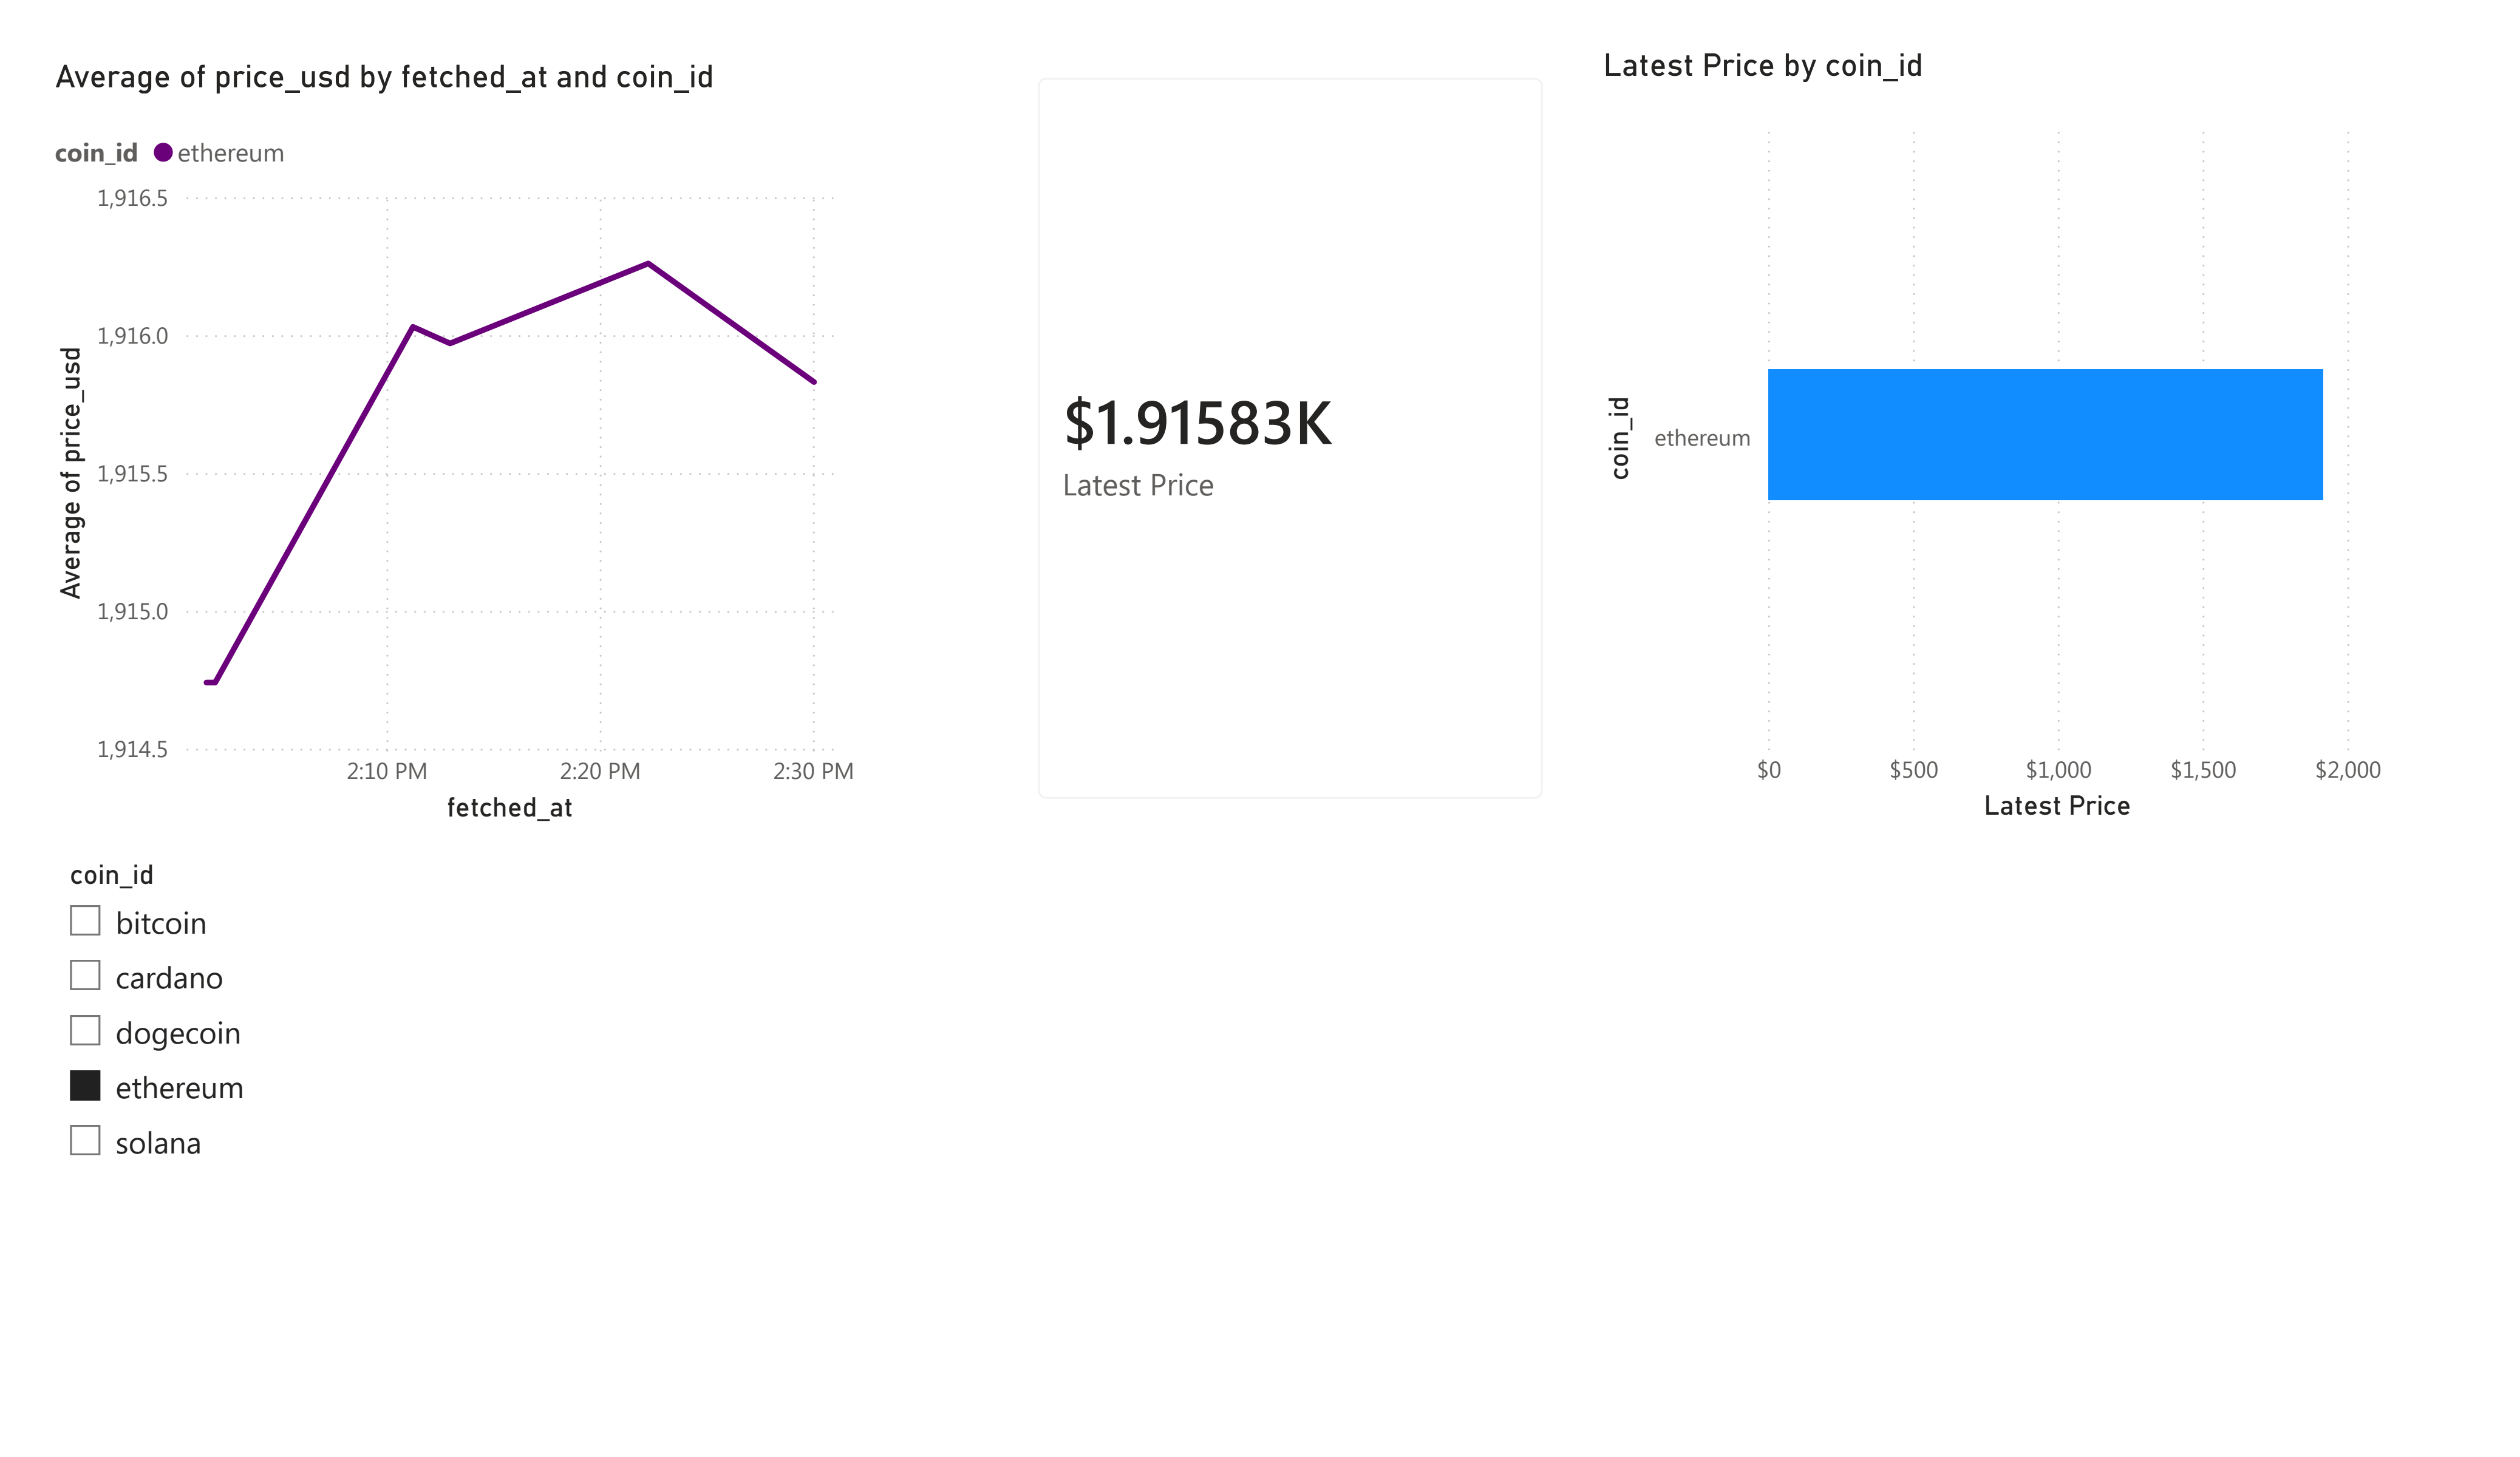

What the dashboard file says about the page in this screenshot:
{"tool":"powerbi","page":{"name":"Page 1","canvas":[1280,720],"ordinal":0},"visuals":[{"type":"lineChart","fields":{"Series":["public crypto_prices.coin_id"],"Category":["public crypto_prices.fetched_at"],"Y":["Avg(public crypto_prices.price_usd)"]},"box":[0,6,432,408],"z":0},{"type":"cardVisual","fields":{"Data":["public crypto_prices.Latest Price"]},"box":[505.6,0,300,414],"z":1},{"type":"clusteredBarChart","fields":{"Category":["public crypto_prices.coin_id"],"Y":["public crypto_prices.Latest Price"]},"box":[815.6,0,420,414],"z":2},{"type":"slicer","fields":{"Values":["public crypto_prices.coin_id"]},"box":[0,424,432,296],"z":3}]}

Visuals, with their boxes on the page's 1280x720 design canvas (x1, y1, x2, y2). These are canvas units, not pixel positions in the 2520x1457 screenshot, which may show the page scaled, cropped or inside an application window:
lineChart - public crypto_prices.coin_id x public crypto_prices.fetched_at: (0,6,432,414)
cardVisual - public crypto_prices.Latest Price: (506,0,806,414)
clusteredBarChart - public crypto_prices.coin_id x public crypto_prices.Latest Price: (816,0,1236,414)
slicer - public crypto_prices.coin_id: (0,424,432,720)
